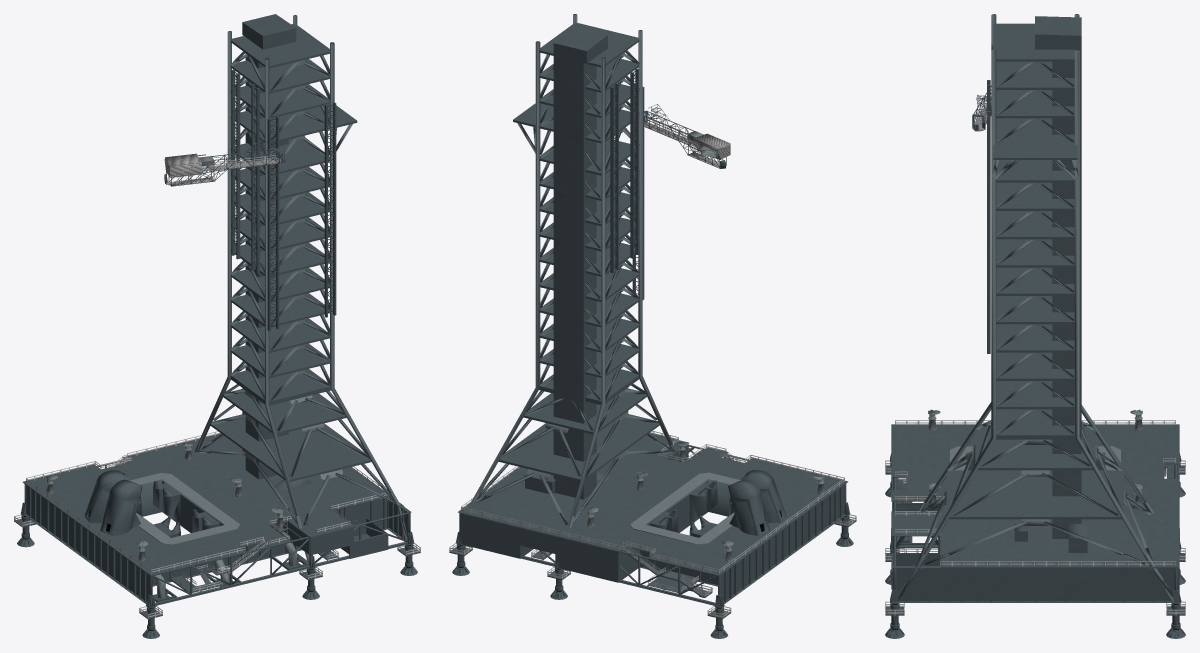
3 renders of one model, left to right at view 1: azimuth 30°, elevation 25°; view 2: azimuth 150°, elevation 25°; view 3: azimuth 270°, elevation 25°, orthographic. The views are drawn at different scales.
Visible parts, largest first — view 1: tower, base; view 2: tower, base; view 3: tower, base.
Boxes of the visible parts, x1,y1,x2,y2 form: tower: (88, 14, 393, 525); base: (14, 431, 420, 638); tower: (476, 14, 782, 525); base: (449, 431, 856, 638); tower: (923, 14, 1147, 554); base: (885, 409, 1185, 638).
Size of the model in its own units: 14.27 by 25.5 by 12.14.
Materials: 2 (2 with a texture image).
